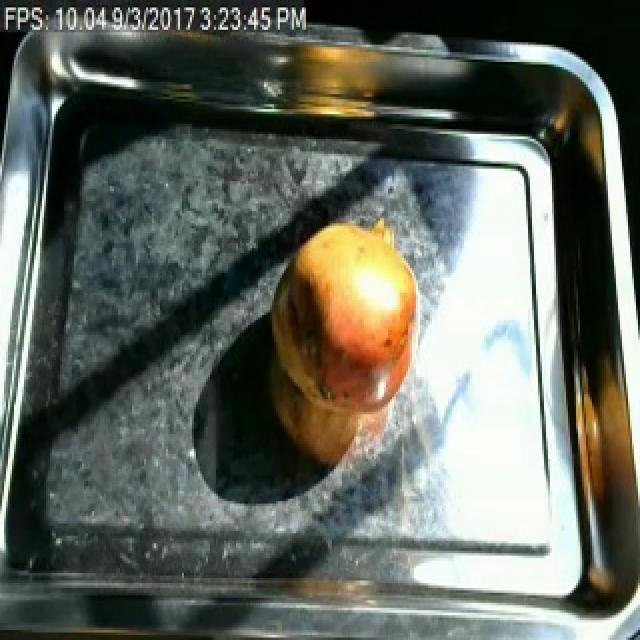fruit: (260, 204, 428, 436)
